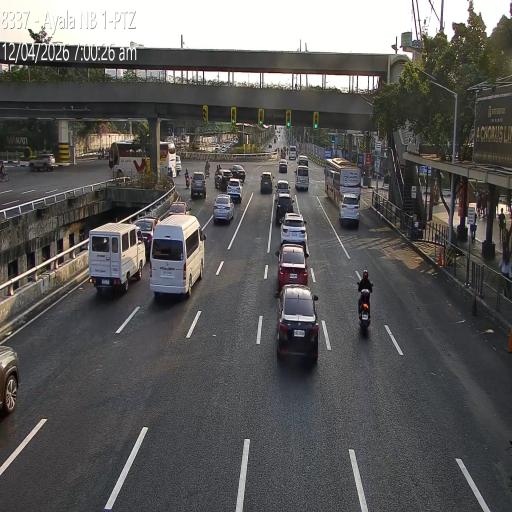Car: (149, 210, 209, 301), (86, 222, 146, 297), (274, 280, 322, 372), (274, 240, 310, 290), (0, 344, 20, 417), (280, 208, 311, 250), (136, 210, 162, 258), (338, 192, 361, 234), (275, 190, 296, 227), (213, 191, 235, 226), (167, 198, 192, 226), (29, 154, 55, 172), (227, 175, 243, 203), (191, 172, 207, 198), (215, 169, 232, 192), (275, 179, 291, 202), (295, 166, 309, 191), (230, 165, 246, 183), (260, 172, 273, 194), (298, 154, 308, 170), (279, 158, 287, 174), (176, 155, 182, 174), (290, 152, 296, 160), (215, 144, 220, 152), (220, 148, 226, 154), (221, 142, 226, 148), (268, 142, 272, 148), (274, 137, 277, 143)
Motor: (353, 267, 376, 337), (183, 166, 192, 188), (204, 158, 210, 177), (167, 166, 173, 180), (216, 164, 222, 177), (105, 148, 110, 161), (98, 150, 102, 160), (102, 147, 105, 159), (281, 150, 285, 158), (286, 146, 289, 156), (296, 146, 298, 158)
Not Accident: (90, 210, 210, 295), (273, 214, 321, 368), (326, 155, 364, 235), (214, 164, 245, 225), (183, 154, 210, 202), (272, 180, 296, 228), (292, 147, 310, 192)
